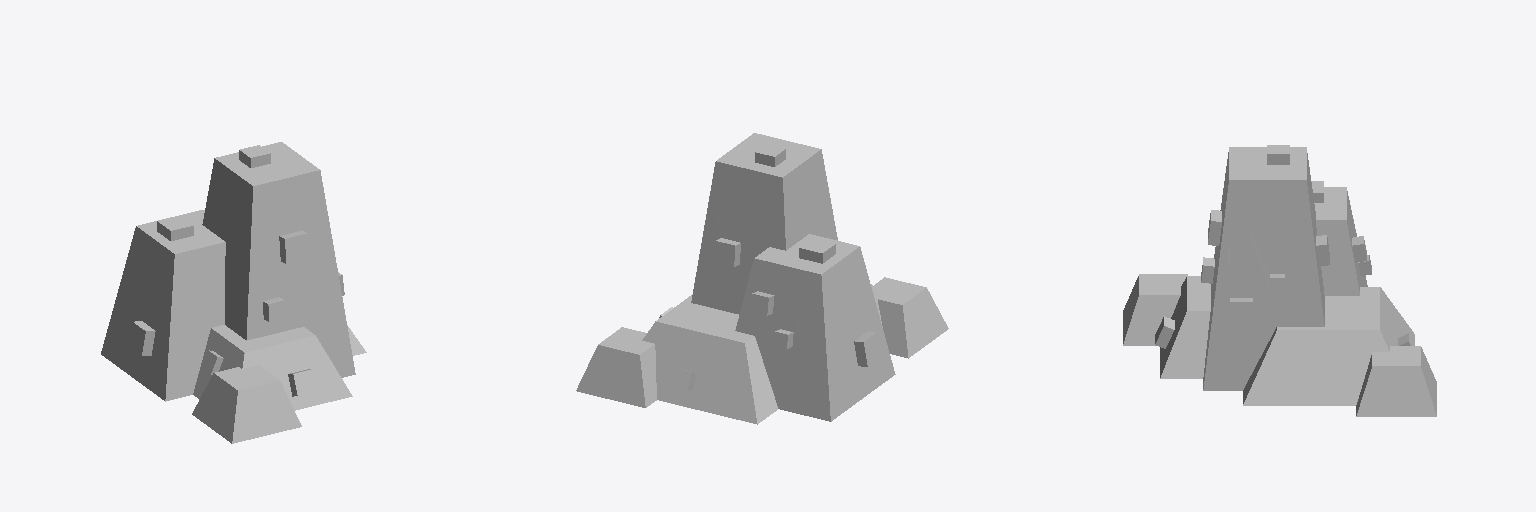
The model's file is rock1.obj.
The picture shows the model from 3 angles: view 1: azimuth 30°, elevation 25°; view 2: azimuth 150°, elevation 25°; view 3: azimuth 270°, elevation 25°; orthographic projection.
Parts seen in each view (by area): view 1: mesh_0, mesh_2; view 2: mesh_0, mesh_2; view 3: mesh_0, mesh_2.
Part boxes in pixels (left/top/right/bottom): mesh_0: left=101, top=142, right=366, bottom=443; mesh_2: left=128, top=145, right=344, bottom=396; mesh_0: left=576, top=133, right=948, bottom=424; mesh_2: left=659, top=144, right=880, bottom=390; mesh_0: left=1123, top=147, right=1436, bottom=416; mesh_2: left=1155, top=145, right=1414, bottom=377.
Bounding box in the file's own units: 0.686 × 0.6082 × 0.821.